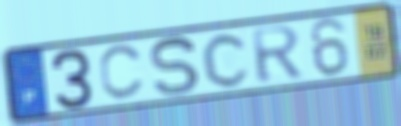3: (47, 46, 93, 112)
6: (308, 16, 352, 80)
C: (200, 31, 253, 90), (97, 42, 146, 103)
R: (249, 24, 306, 86)
S: (148, 35, 202, 98)
